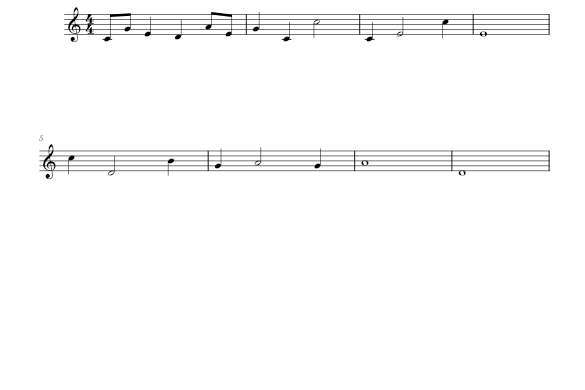Treble Clef: (64, 2, 84, 46), (39, 143, 60, 182)
